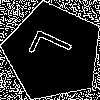L: (28, 27, 82, 72)
